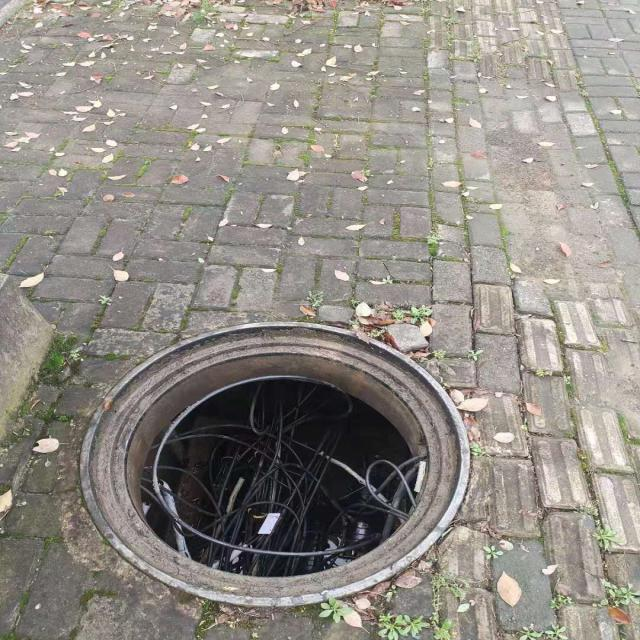Faulty: (79, 321, 469, 610)
